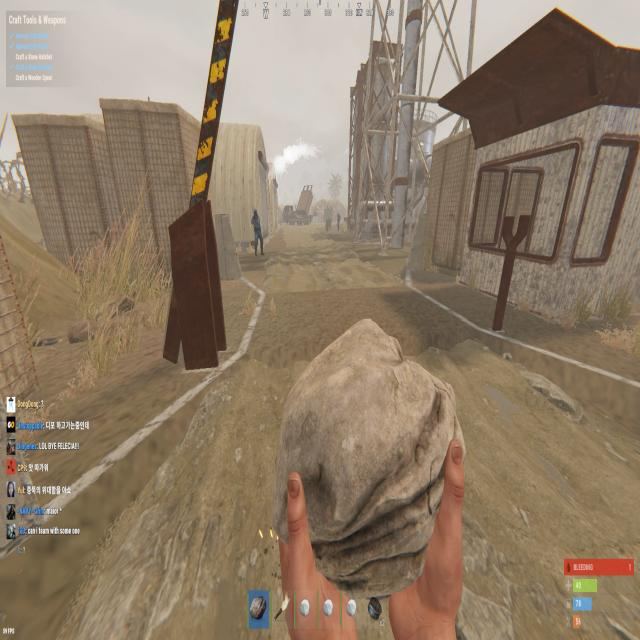Player: (250, 206, 266, 260), (336, 211, 341, 233)
